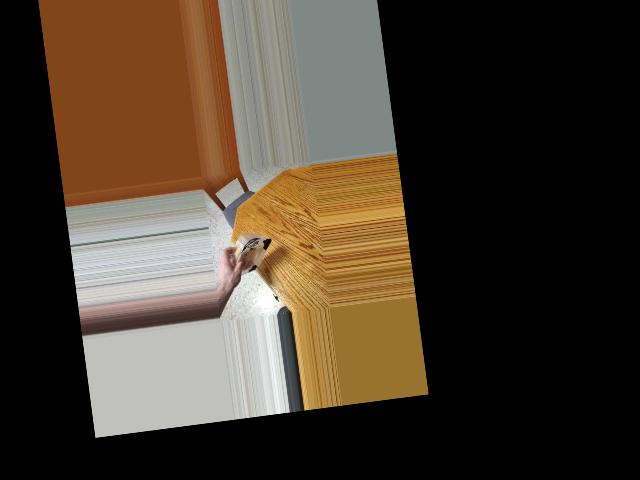cheese: (228, 226, 274, 288)
